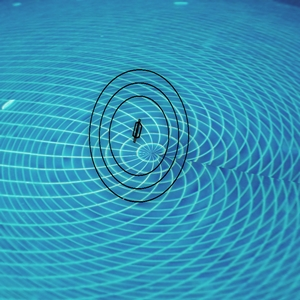circle: (81, 65, 192, 202), (183, 216, 187, 220)
submarine: (135, 122, 145, 138)
